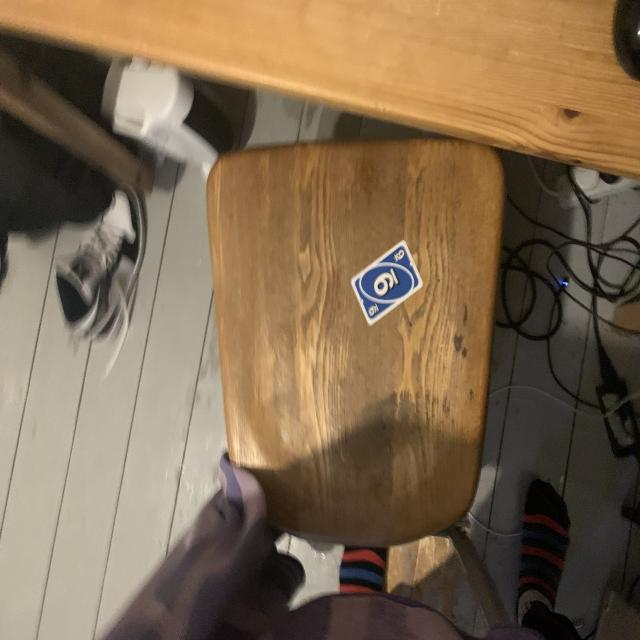lblue-9: (392, 247, 405, 264)
